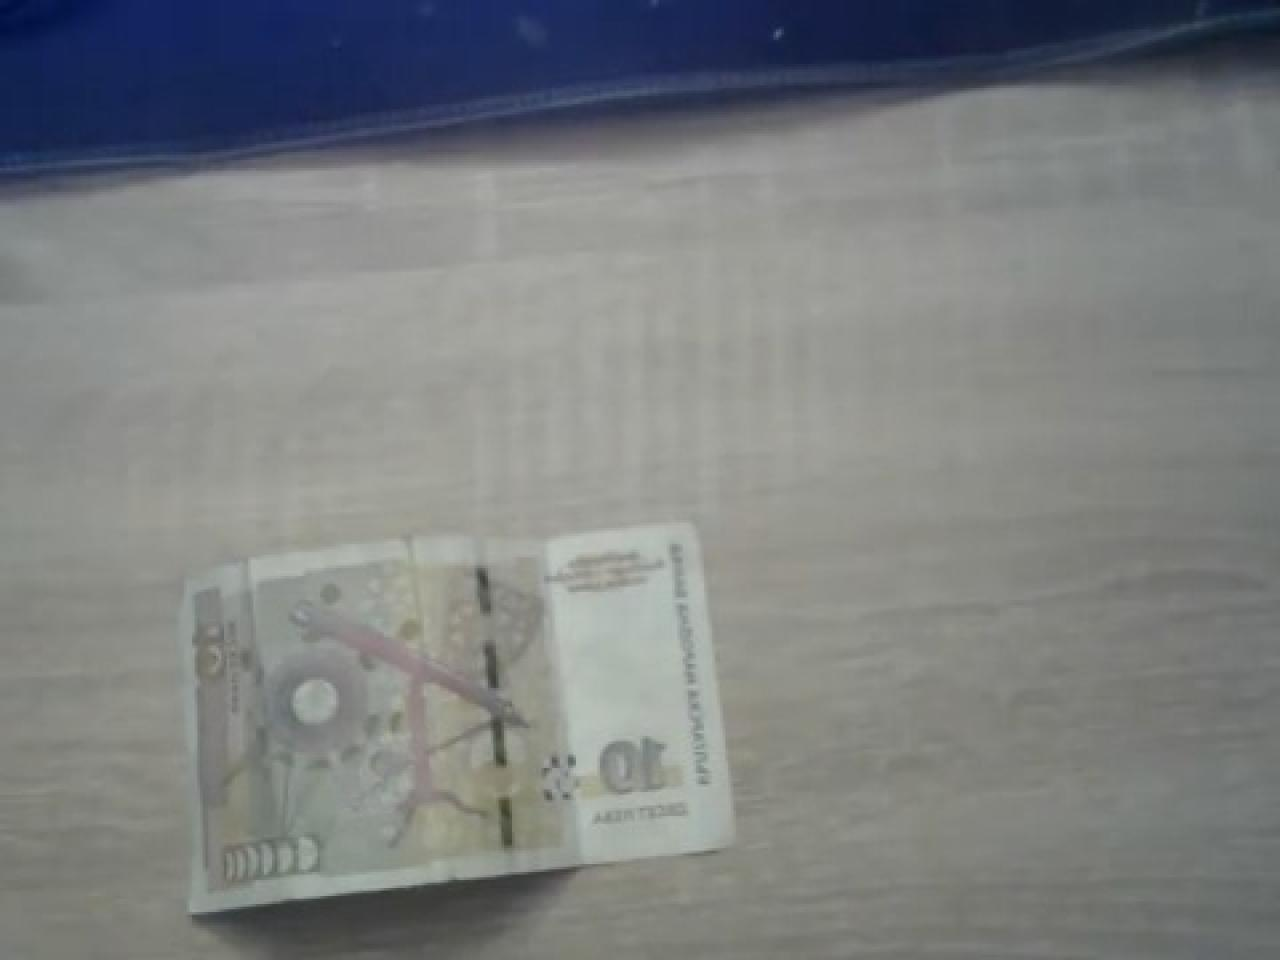10leva: (176, 522, 739, 920)
